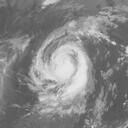cyclone: (26, 27, 104, 110)
